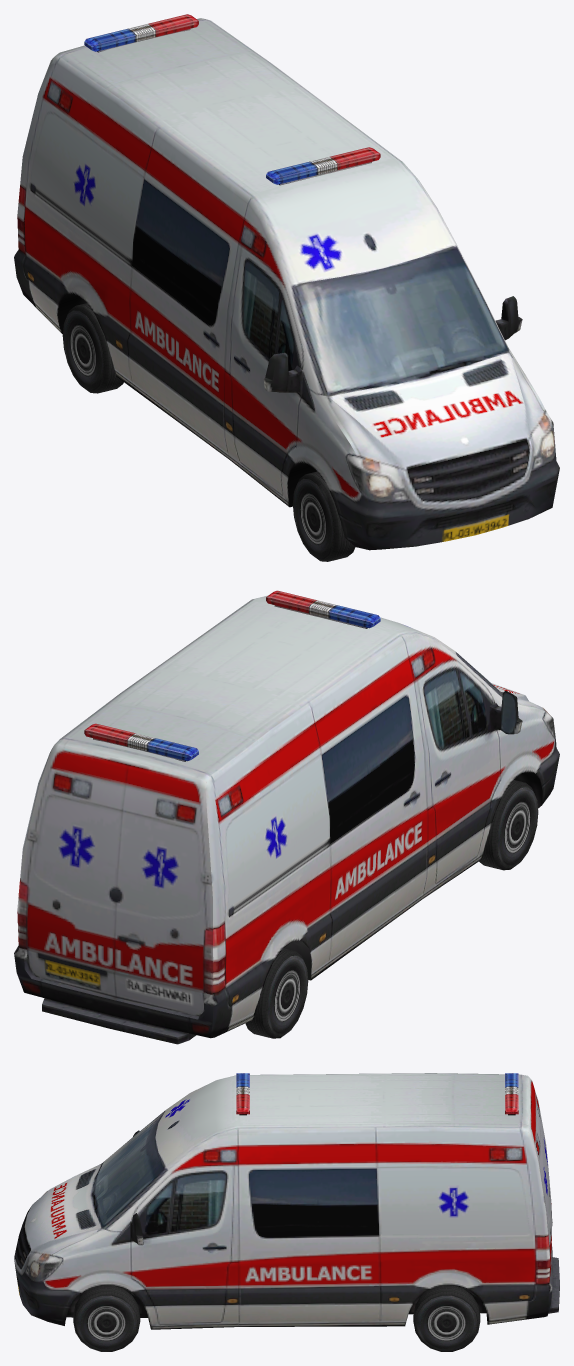
The model's file is ambulance.glb.
3 renders of one model, top to bottom at view 1: azimuth 30°, elevation 25°; view 2: azimuth 150°, elevation 25°; view 3: azimuth 270°, elevation 25°, orthographic. The views are drawn at different scales.
Parts seen in each view (by area): view 1: Object_16, Object_6, Object_8, Object_4, Object_14; view 2: Object_16, Object_8, Object_6, Object_4, Object_14; view 3: Object_16, Object_12, Object_10, Object_4, Object_14.
Part boxes in pixels (x1,y1,x2,y2): Object_16: (14, 18, 559, 550); Object_6: (292, 471, 355, 561); Object_8: (62, 303, 123, 393); Object_4: (266, 147, 380, 185); Object_14: (84, 14, 198, 52); Object_16: (14, 595, 559, 1044); Object_8: (245, 948, 308, 1038); Object_6: (479, 780, 538, 870); Object_4: (266, 590, 380, 628); Object_14: (84, 723, 198, 761); Object_16: (14, 1073, 559, 1329); Object_12: (73, 1285, 140, 1351); Object_10: (413, 1285, 480, 1351); Object_4: (236, 1073, 249, 1115); Object_14: (505, 1073, 518, 1115).
Size of the model in its own units: 8.04 by 9.17 by 20.09.
Materials: 2 (2 with a texture image).
